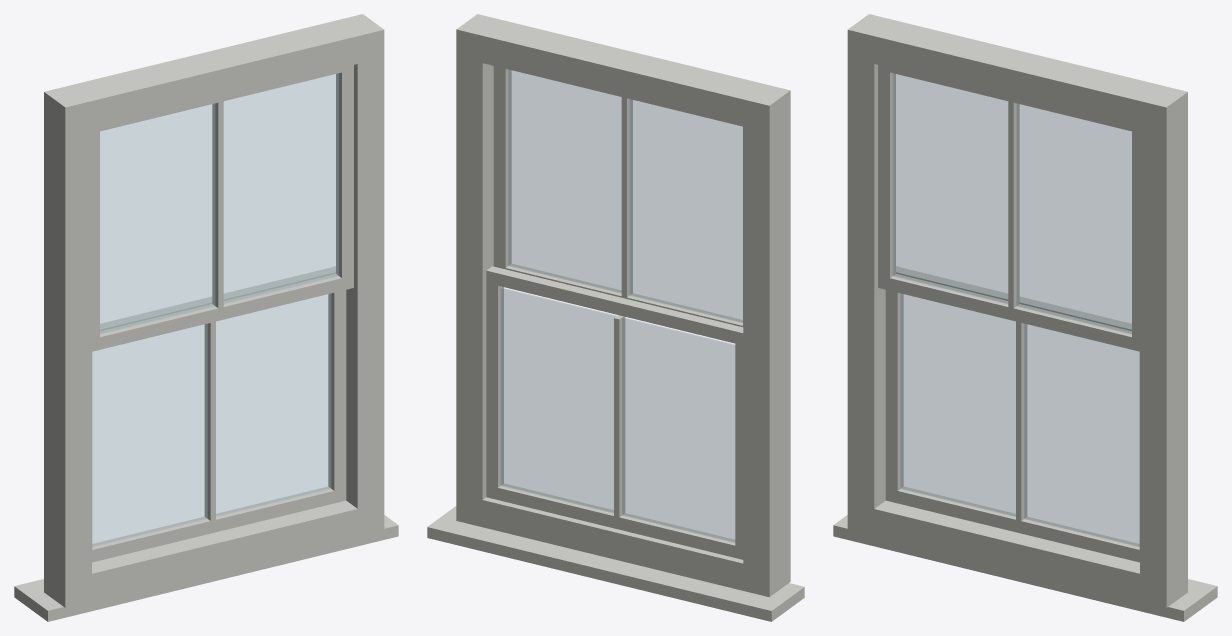
File: opening.window.sash_1200x1800.glb
The picture shows the model from 3 angles, left to right: view 1: azimuth 30°, elevation 25°; view 2: azimuth 150°, elevation 25°; view 3: azimuth 330°, elevation 25°; orthographic projection.
Parts seen in each view (by area): view 1: frame__paint_white, glazing__glass; view 2: frame__paint_white, glazing__glass; view 3: frame__paint_white, glazing__glass.
Part boxes in pixels (x1,y1,x2,y2): frame__paint_white: (14, 14, 398, 621); glazing__glass: (92, 73, 338, 546); frame__paint_white: (427, 14, 804, 621); glazing__glass: (501, 70, 742, 542); frame__paint_white: (833, 14, 1217, 621); glazing__glass: (893, 73, 1139, 546).
Size of the model in its own units: 1.32 by 1.84 by 0.23.
